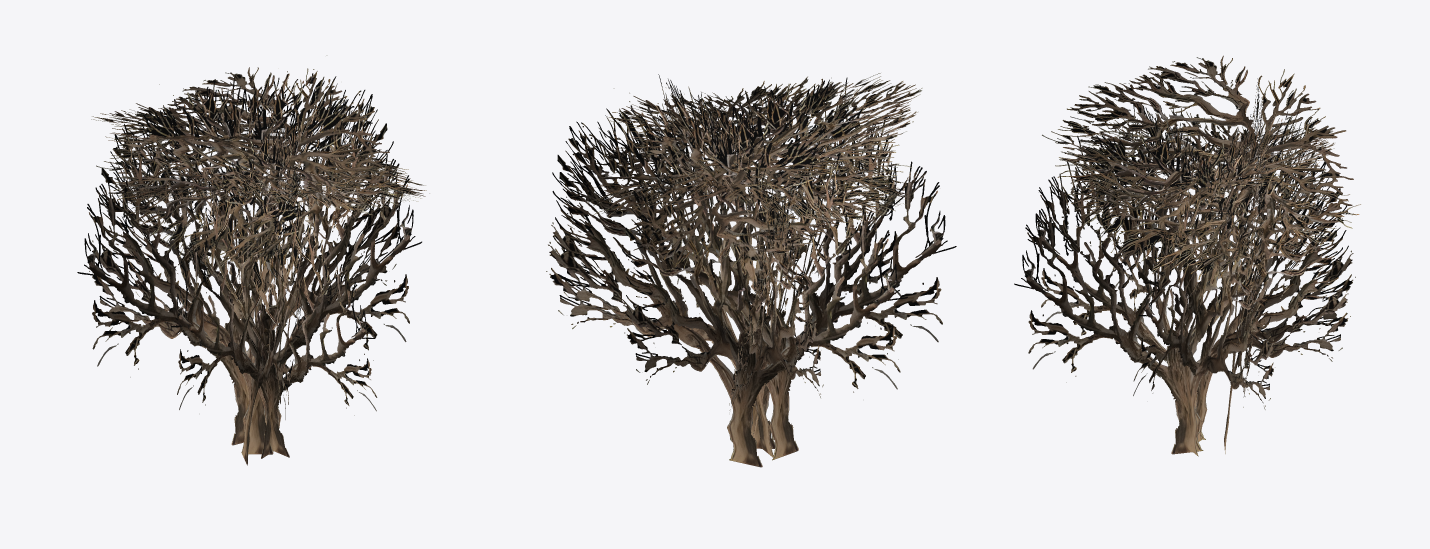
File: desertbush.gltf
3 renders of one model, left to right at view 1: azimuth 30°, elevation 25°; view 2: azimuth 150°, elevation 25°; view 3: azimuth 270°, elevation 25°, orthographic. The views are drawn at different scales.
Parts seen in each view (by area): view 1: desertbush_new; view 2: desertbush_new; view 3: desertbush_new.
Boxes of the visible parts, <box> form: desertbush_new: <box>77,55,429,465</box>; desertbush_new: <box>546,73,956,467</box>; desertbush_new: <box>1014,55,1360,456</box>.
Bounding box in the file's own units: 12.5 × 11.6 × 12.5.
Materials: 2 (2 with a texture image).
